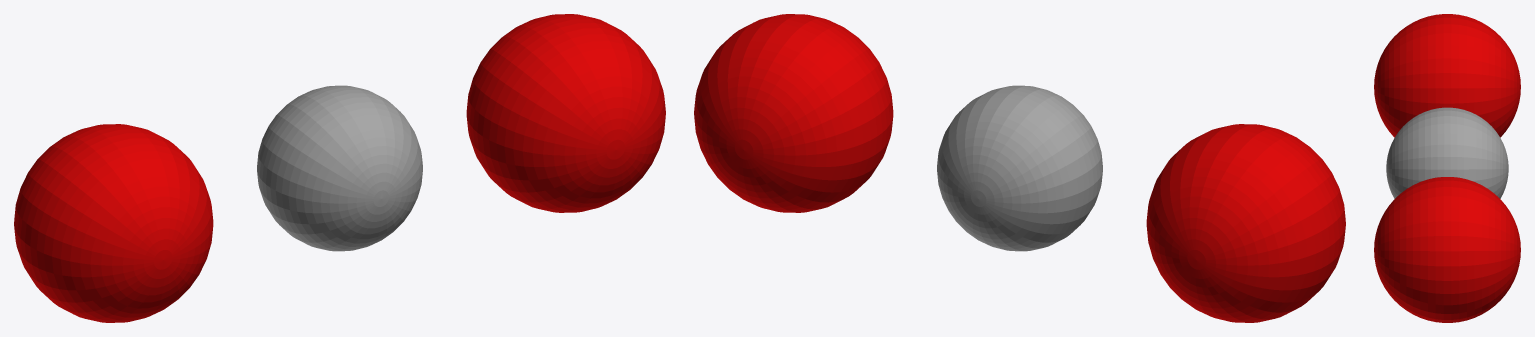
File: Silicon Dioxide.glb
3 renders of one model, left to right at view 1: azimuth 30°, elevation 25°; view 2: azimuth 150°, elevation 25°; view 3: azimuth 270°, elevation 25°, orthographic. The views are drawn at different scales.
Visible parts, largest first — view 1: world; view 2: world; view 3: world.
Part boxes in pixels (box(x1,y1,x2,y2)): world: box(14, 14, 665, 322); world: box(694, 14, 1345, 322); world: box(1374, 14, 1520, 322).
Size of the model in its own units: 4.34 by 1.19 by 1.2.
